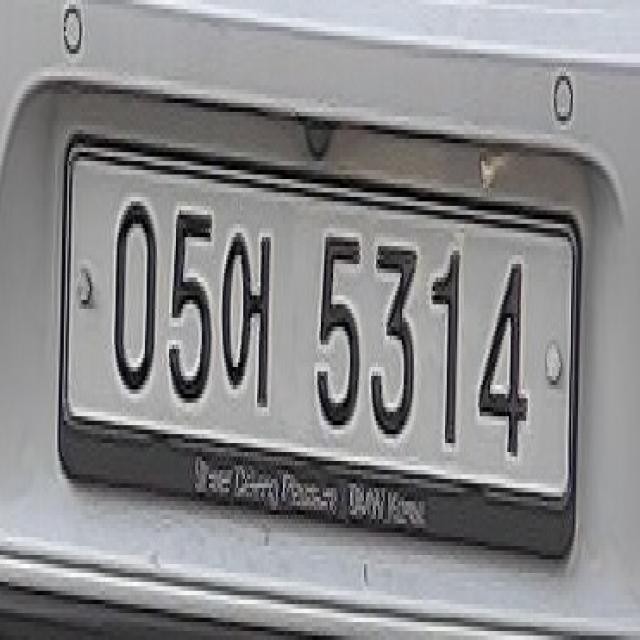0: (105, 180, 160, 409)
1: (430, 231, 472, 458)
3: (368, 224, 426, 452)
4: (478, 242, 537, 484)
5: (164, 198, 217, 416), (313, 212, 363, 440)
eo: (220, 209, 280, 420)
license_plate: (54, 106, 593, 585)
